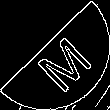M_NW: (21, 21, 89, 89)
